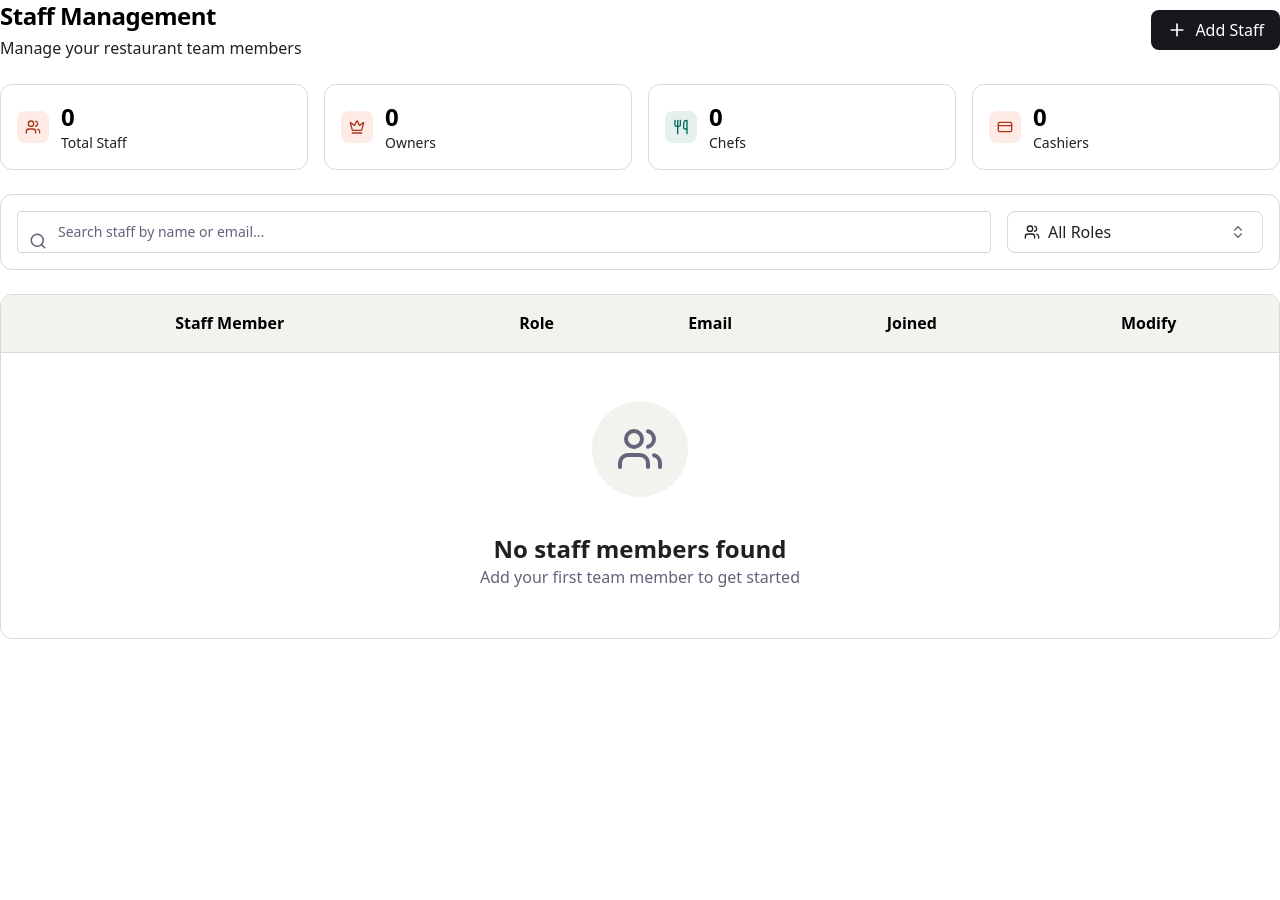
Test: staff invites (VM-12) › someone who already has that role here is a field error, not a silent failure
Click the button "Add Staff": (1216, 30) [1151,10,1279,50]
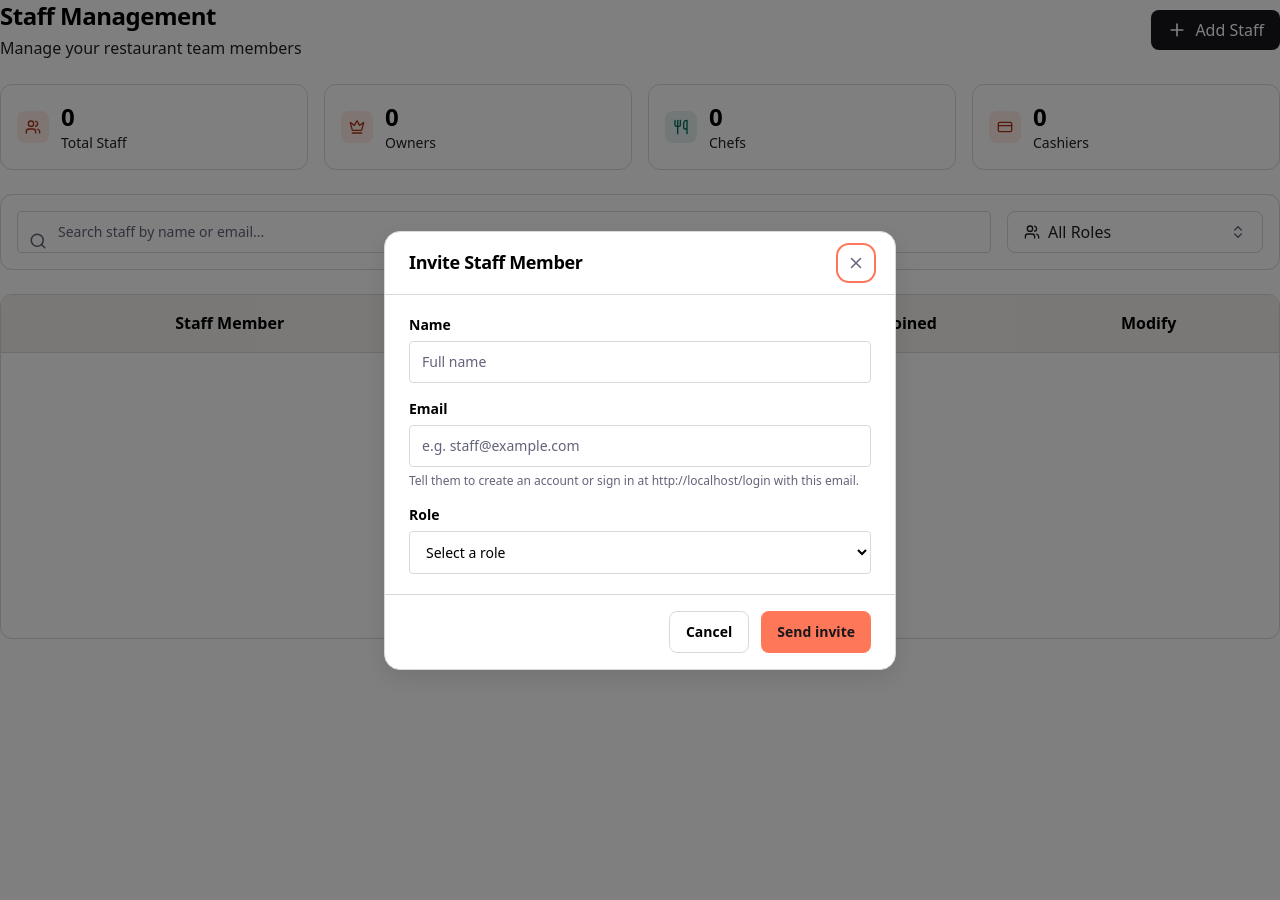
In the field labelled "Name": (640, 362) [409,340,871,382], type "Dara"
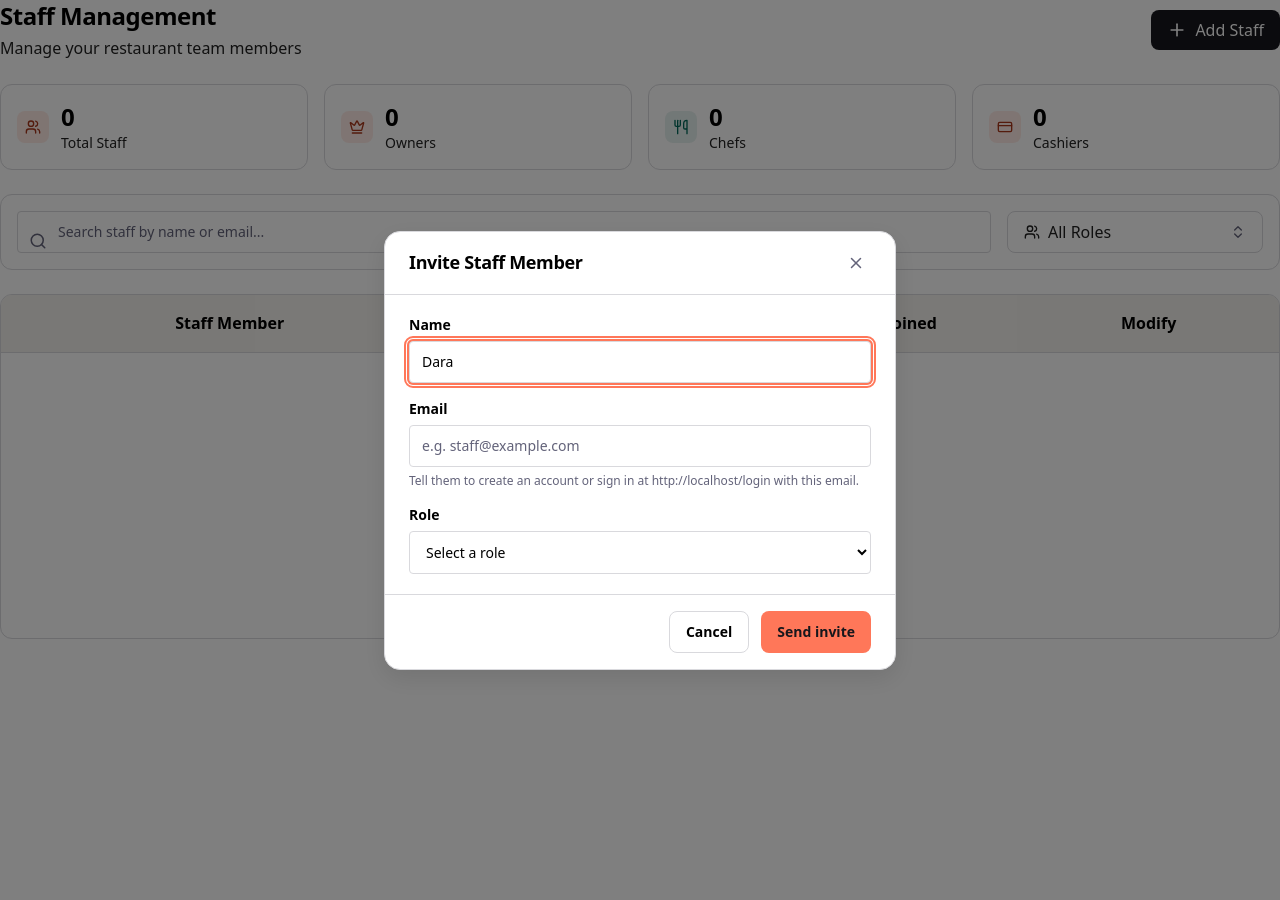
In the field labelled "Email": (640, 446) [409,424,871,466], type "dara@x.test"
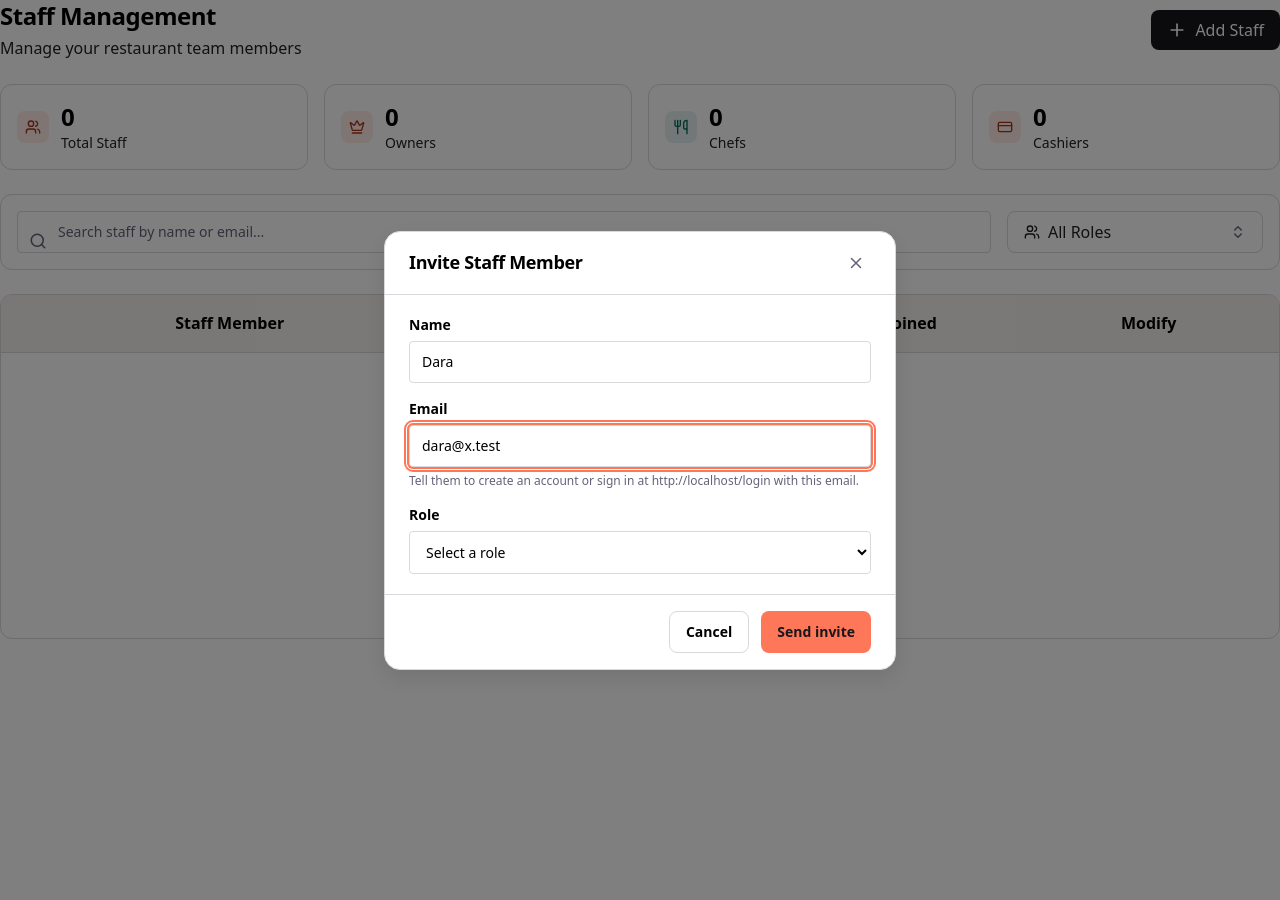
Select "Cashier" in the dropdown labelled "Role": (640, 552) [409,530,871,574]
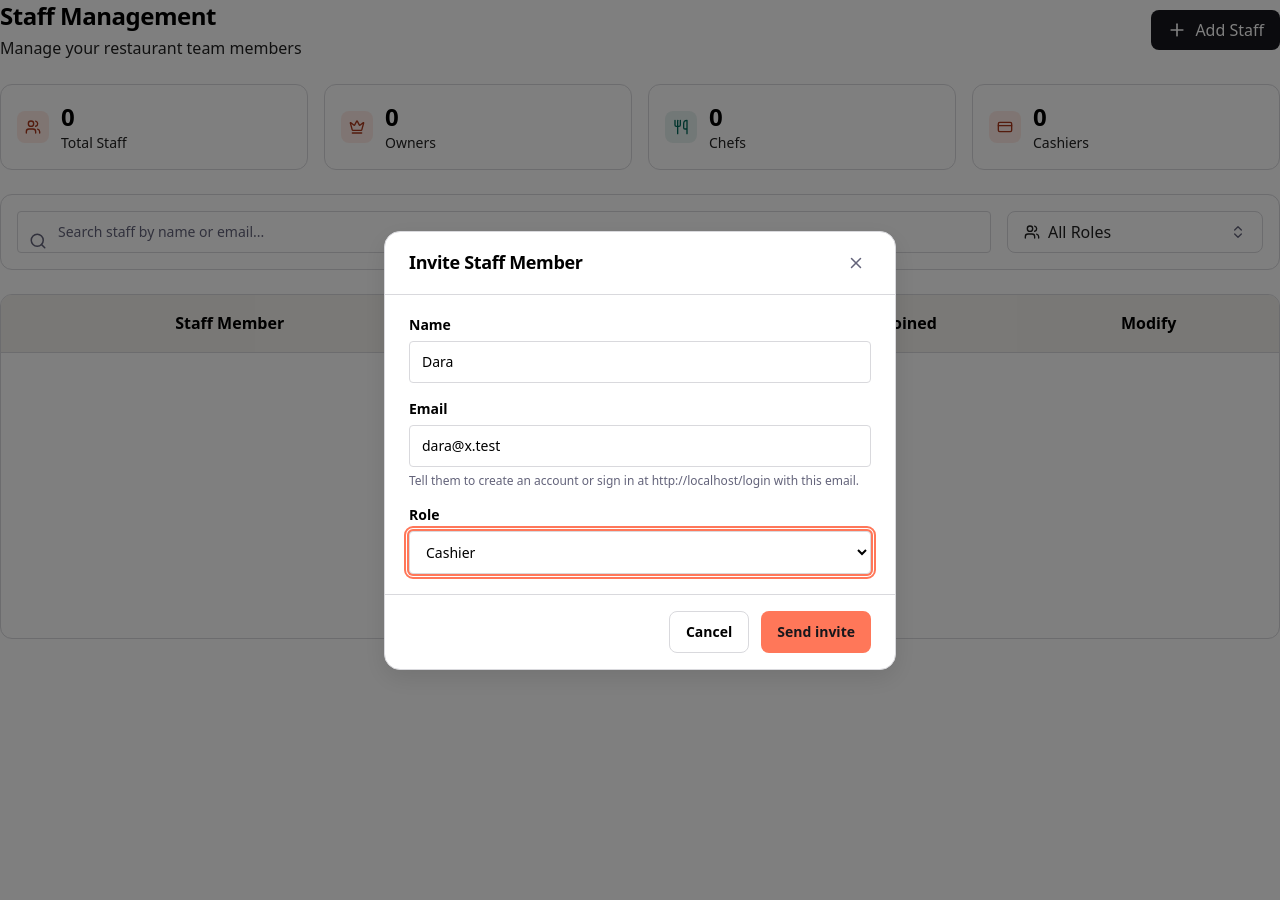
Click the button "Send invite": (816, 632) [761,610,871,652]
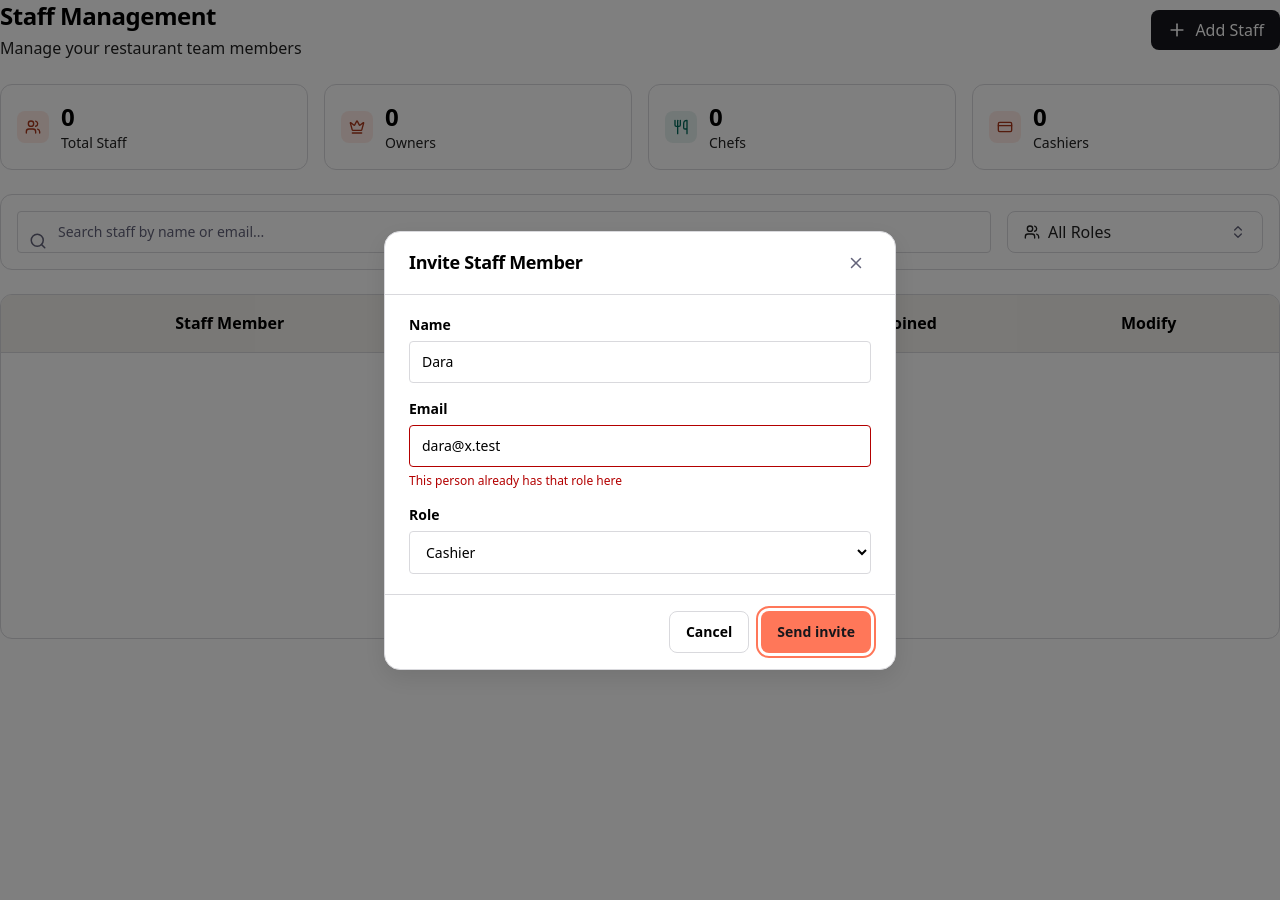
Now the button "Send invite" is shown, box [761,610,871,652]
Now the text "This person already has that role here" is shown, box [409,472,622,488]
